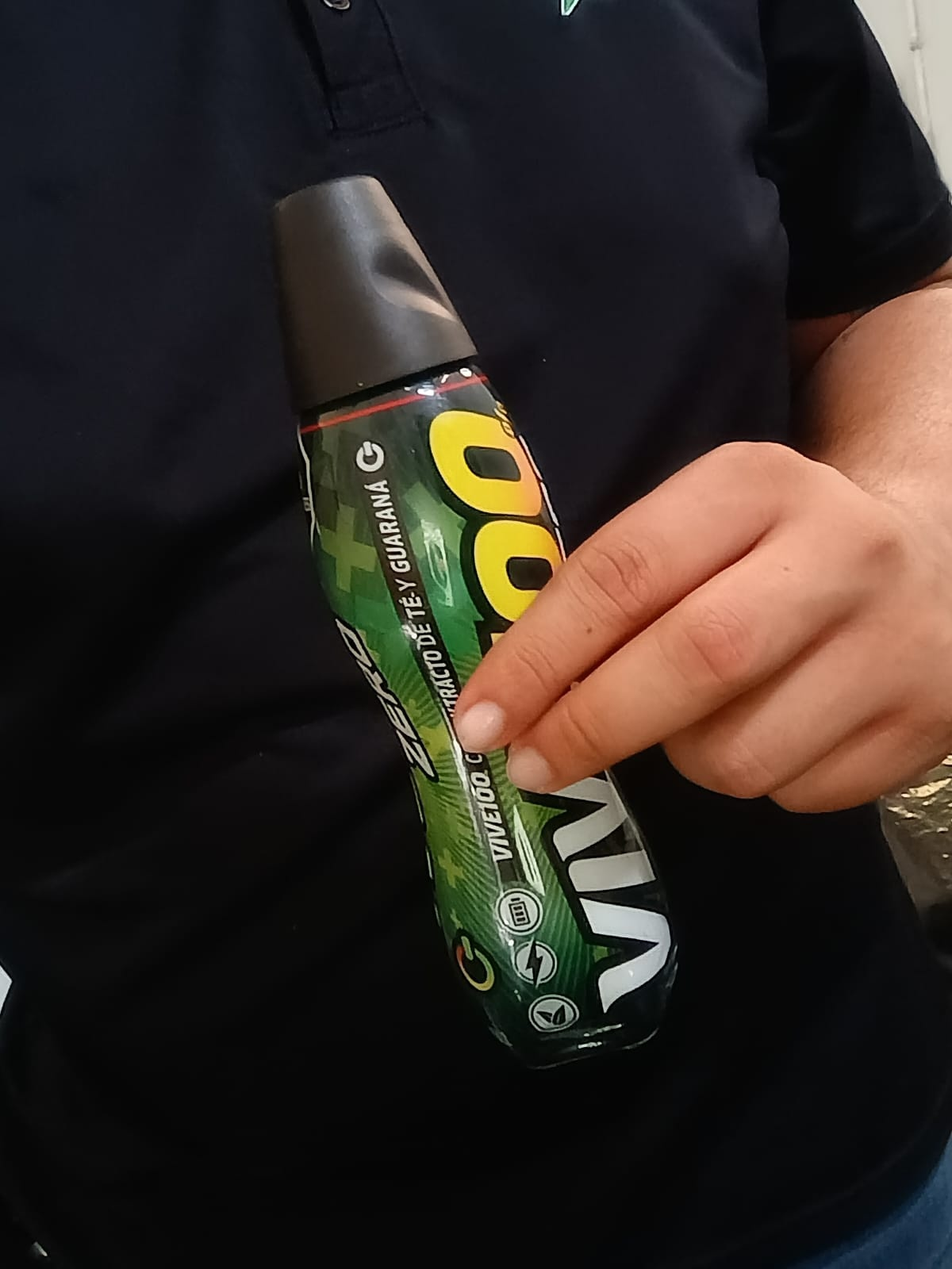Plastico: (273, 173, 685, 1071)
